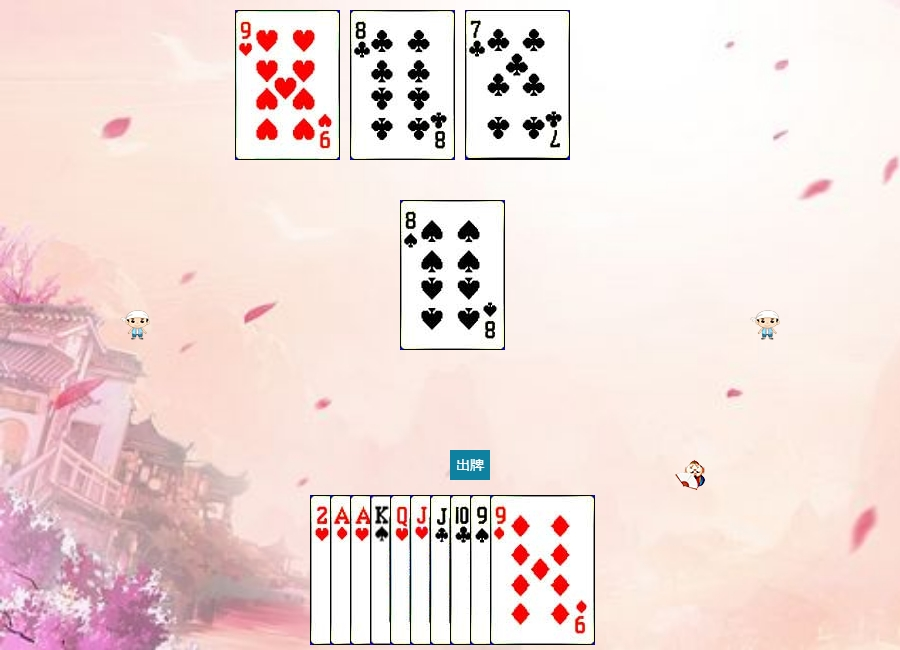10~2: (450, 495, 555, 645)
11~2: (430, 495, 535, 645)
11~3: (410, 495, 515, 645)
12~3: (390, 495, 495, 645)
13~4: (370, 495, 475, 645)
14~1: (330, 495, 435, 645)
14~3: (350, 495, 455, 645)
15~3: (310, 495, 415, 645)
7~2: (465, 10, 570, 160)
8~2: (350, 10, 455, 160)
8~4: (400, 200, 505, 350)
9~1: (490, 495, 595, 645)
9~3: (235, 10, 340, 160)
9~4: (470, 495, 575, 645)
